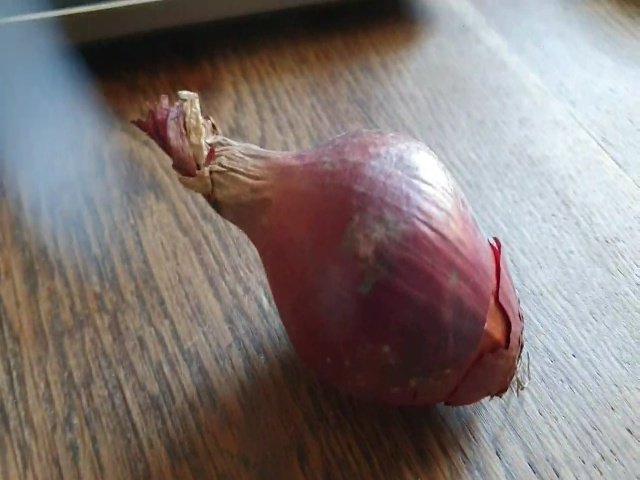red_onion: (125, 87, 535, 412)
